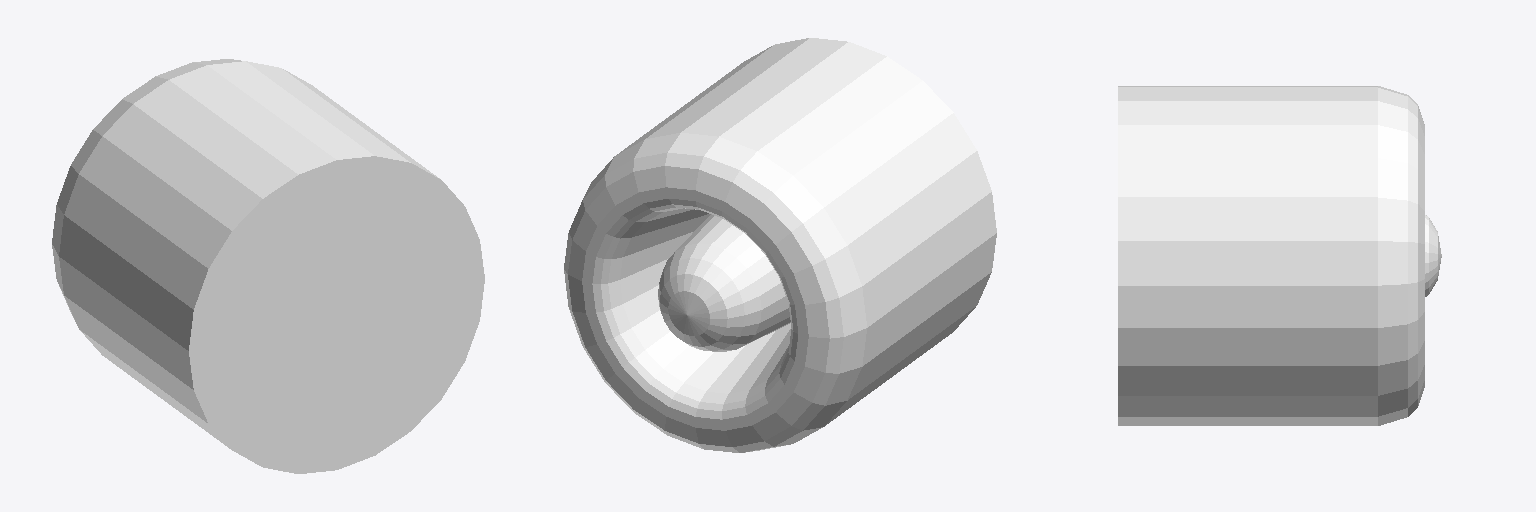
File: Thruster.obj
3 renders of one model, left to right at view 1: azimuth 30°, elevation 25°; view 2: azimuth 150°, elevation 25°; view 3: azimuth 270°, elevation 25°, orthographic.
Parts seen in each view (by area): view 1: Handle1; view 2: Handle1; view 3: Handle1.
Part boxes in pixels (x1,y1,x2,y2): Handle1: (52, 59, 484, 473); Handle1: (564, 38, 996, 452); Handle1: (1118, 86, 1441, 425).
Size of the model in its own units: 0.8686 by 0.8686 by 0.8215.